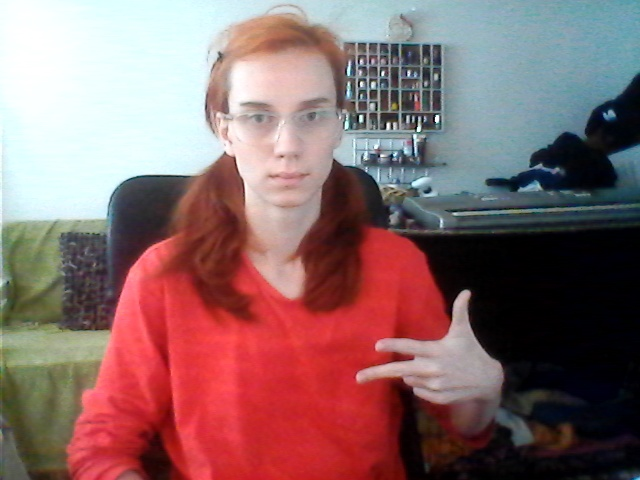tri: (354, 288, 501, 421)
